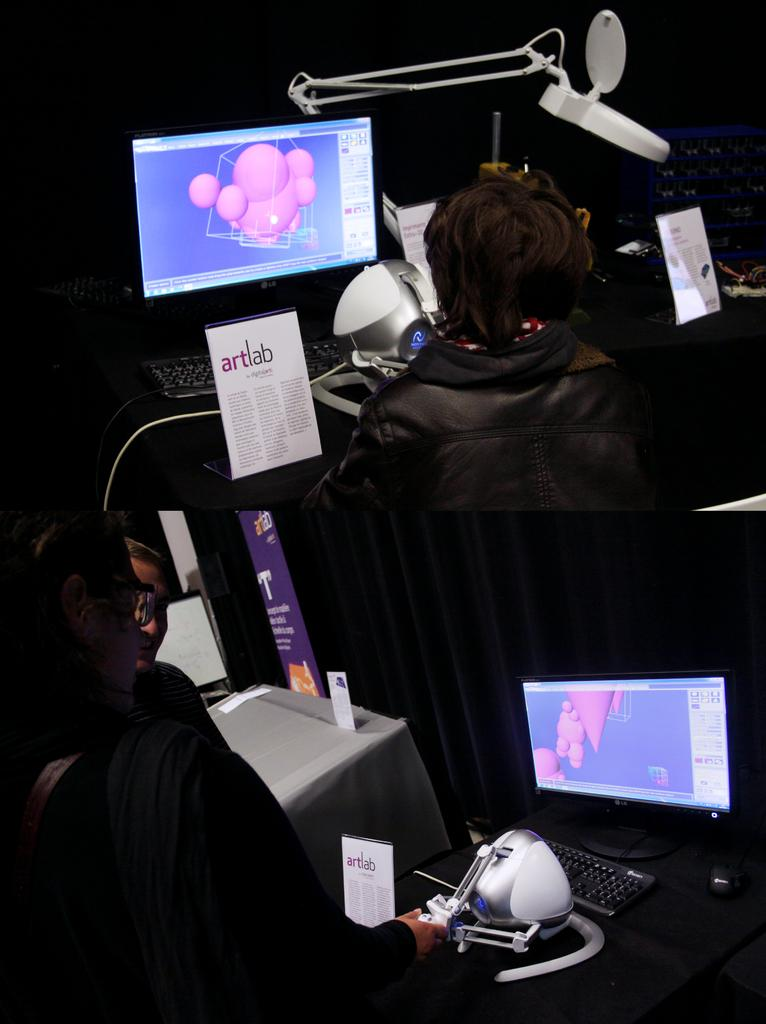Computer-monitor: (120, 114, 389, 352), (514, 664, 733, 860)
